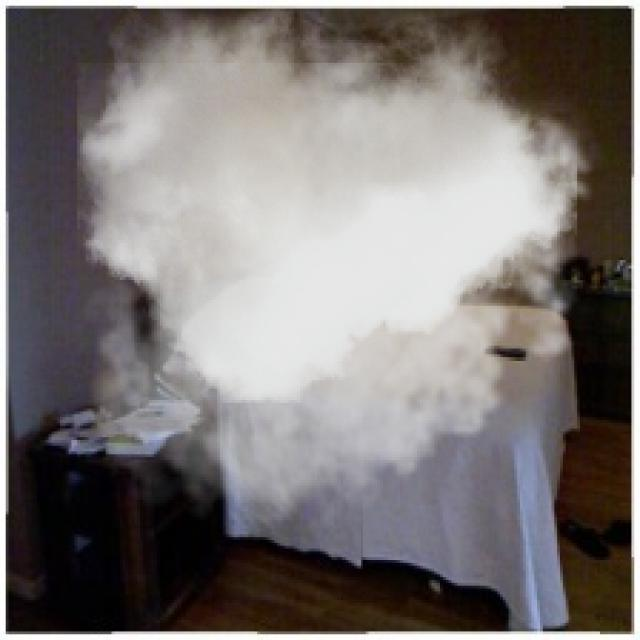Smoke: (77, 8, 609, 543)
